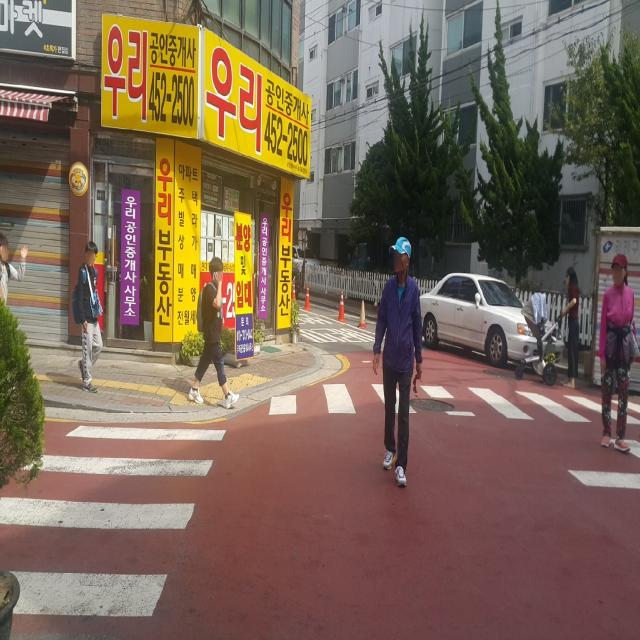횡단보도: (0, 422, 228, 619), (246, 382, 640, 424)
